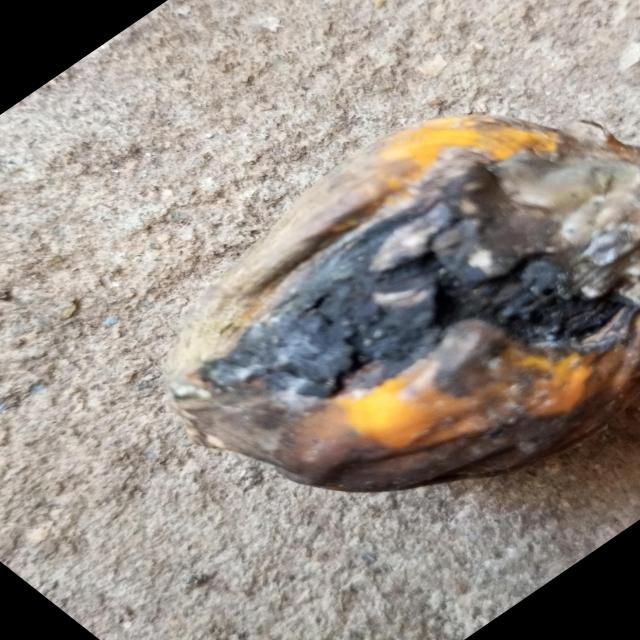damaged: (161, 115, 640, 497)
